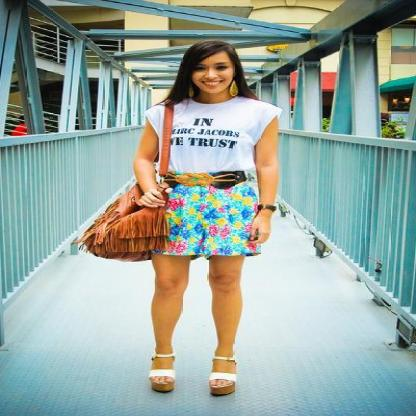bag: (66, 99, 194, 264)
shirt: (137, 97, 282, 174)
shoe: (149, 341, 243, 397)
skirt: (163, 179, 260, 257)
